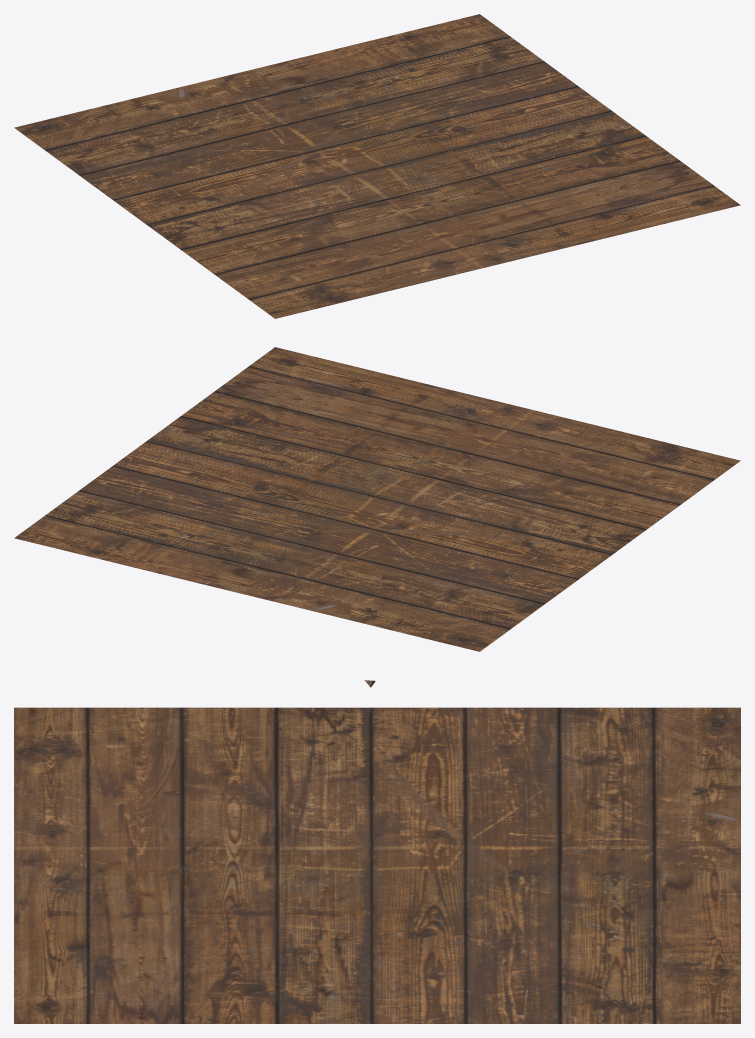
Rendered from Floor.fbx.
The picture shows the model from 3 angles, top to bottom: view 1: azimuth 30°, elevation 25°; view 2: azimuth 150°, elevation 25°; view 3: azimuth 270°, elevation 25°; orthographic projection. The views are drawn at different scales.
Visible parts, largest first — view 1: Floor; view 2: Floor; view 3: Floor.
Boxes of the visible parts, <box> form: Floor: <box>14,14,740,318</box>; Floor: <box>14,347,740,651</box>; Floor: <box>14,680,740,1023</box>.
Bounding box in the file's own units: 2 × 0.0884 × 1.94.
